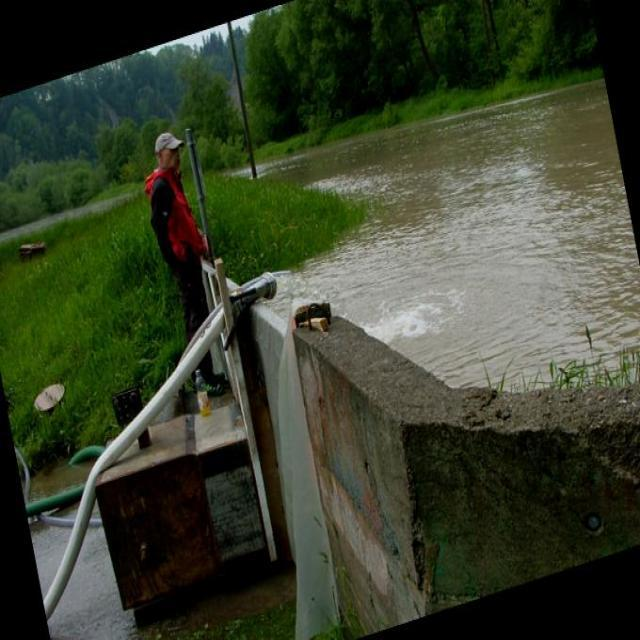flood: (265, 73, 639, 480)
